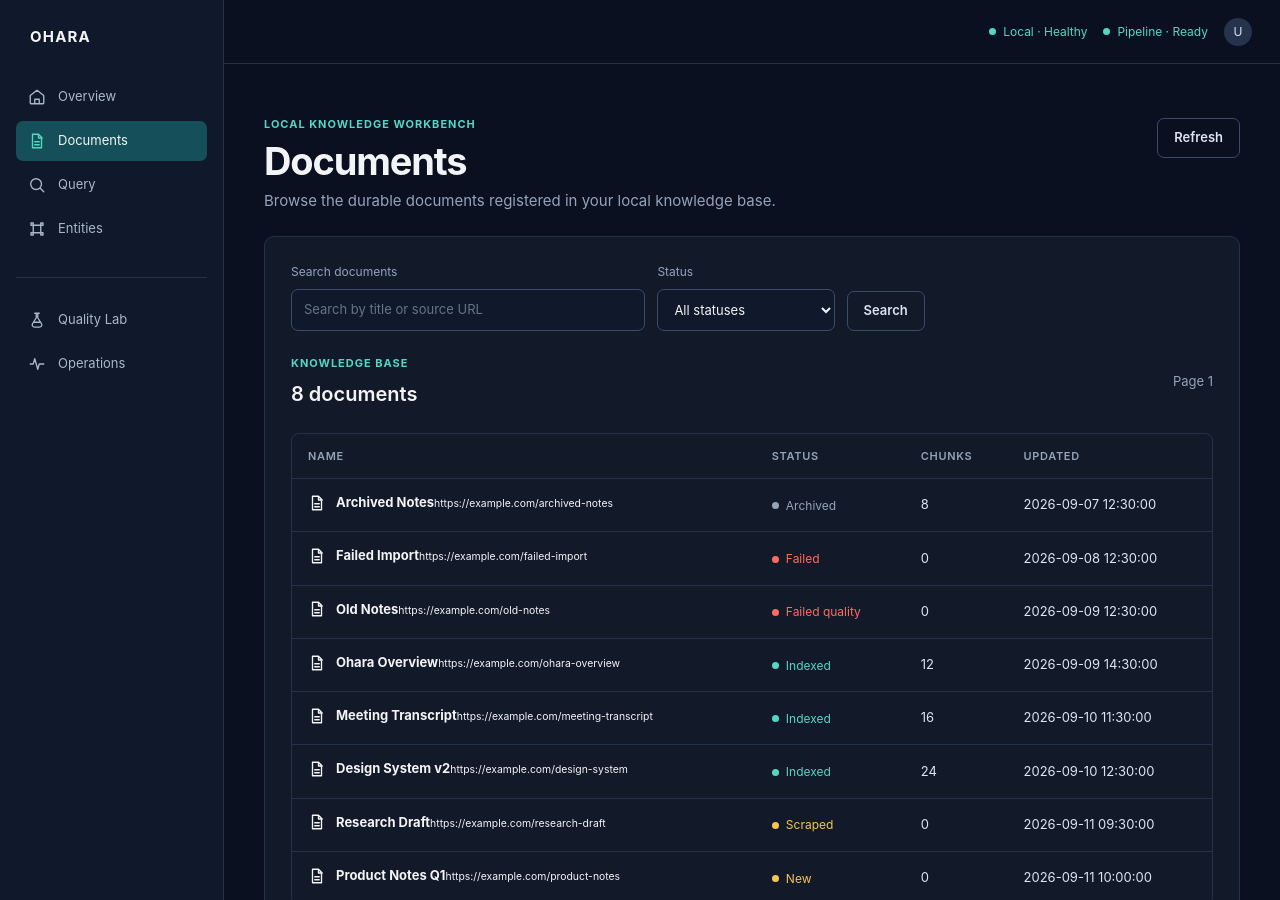
Test case: App shell › navigates between route boundaries
Click the link "Documents" at (112, 140), box [16, 120, 207, 160]
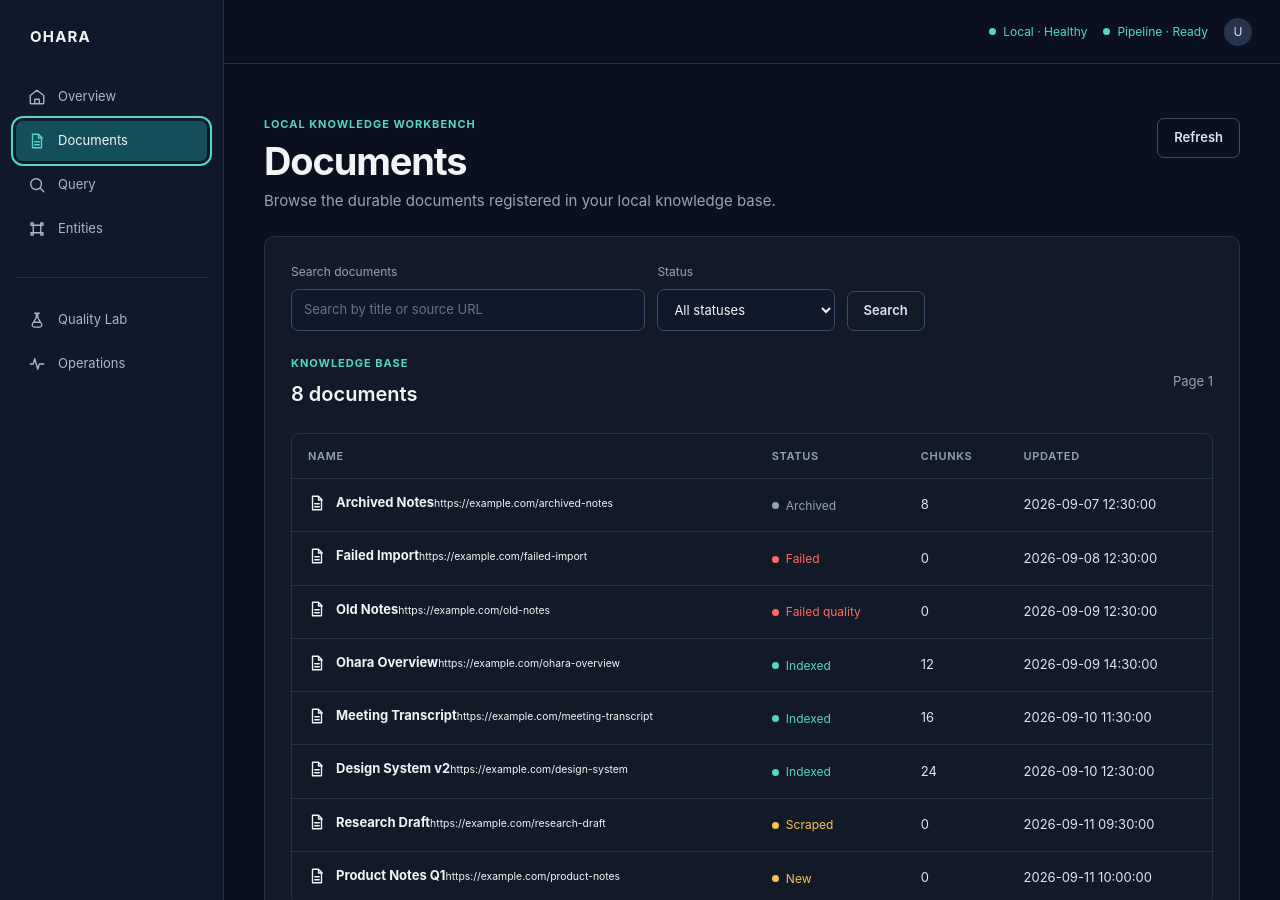
Check: the heading "Documents" is shown, box [264, 138, 466, 184]
Check: the heading "8 documents" is shown, box [291, 378, 417, 408]
Select "New" in the dropdown labelled "Status" at (746, 310), box [657, 289, 835, 331]
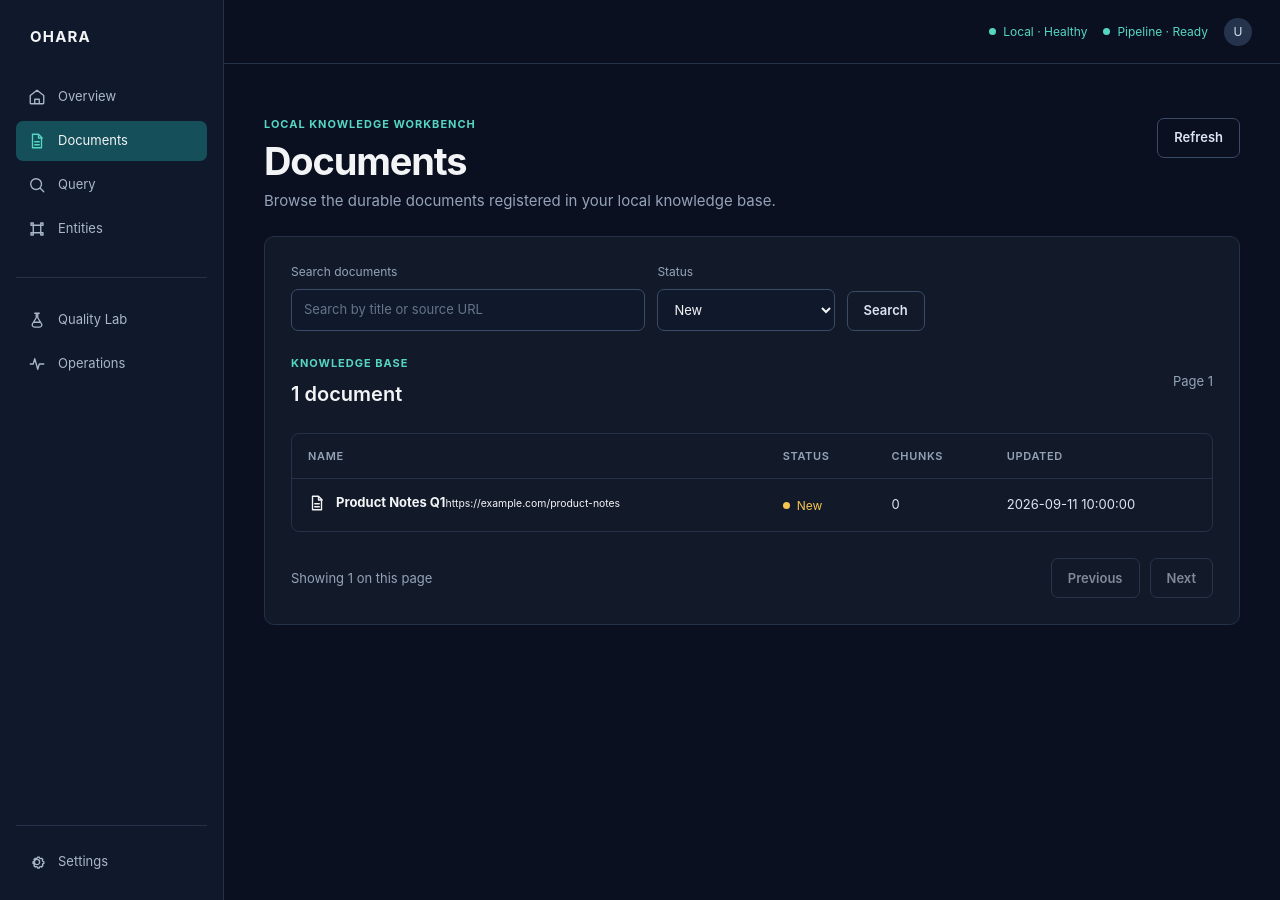
Check: the text "Product Notes Q1" is shown, box [336, 494, 446, 510]
Check: the heading "1 document" is shown, box [291, 378, 408, 408]
